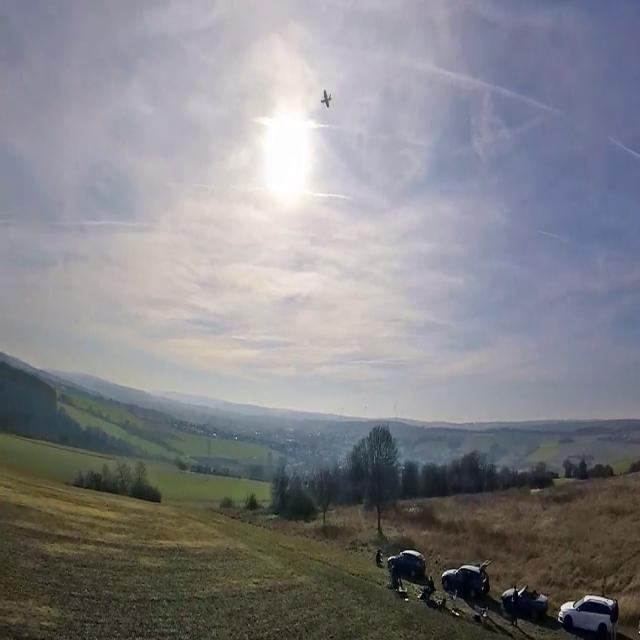iha: (318, 24, 322, 45)
